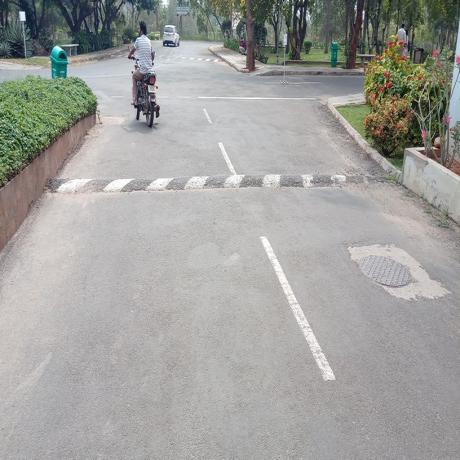Speed Bump: (46, 169, 396, 189)
